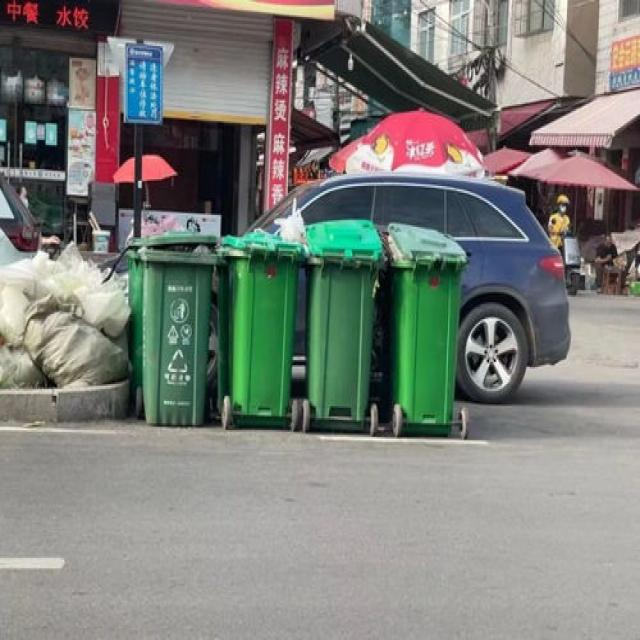overflow: (220, 196, 304, 413), (126, 229, 217, 425), (386, 220, 468, 434), (304, 218, 382, 420)
